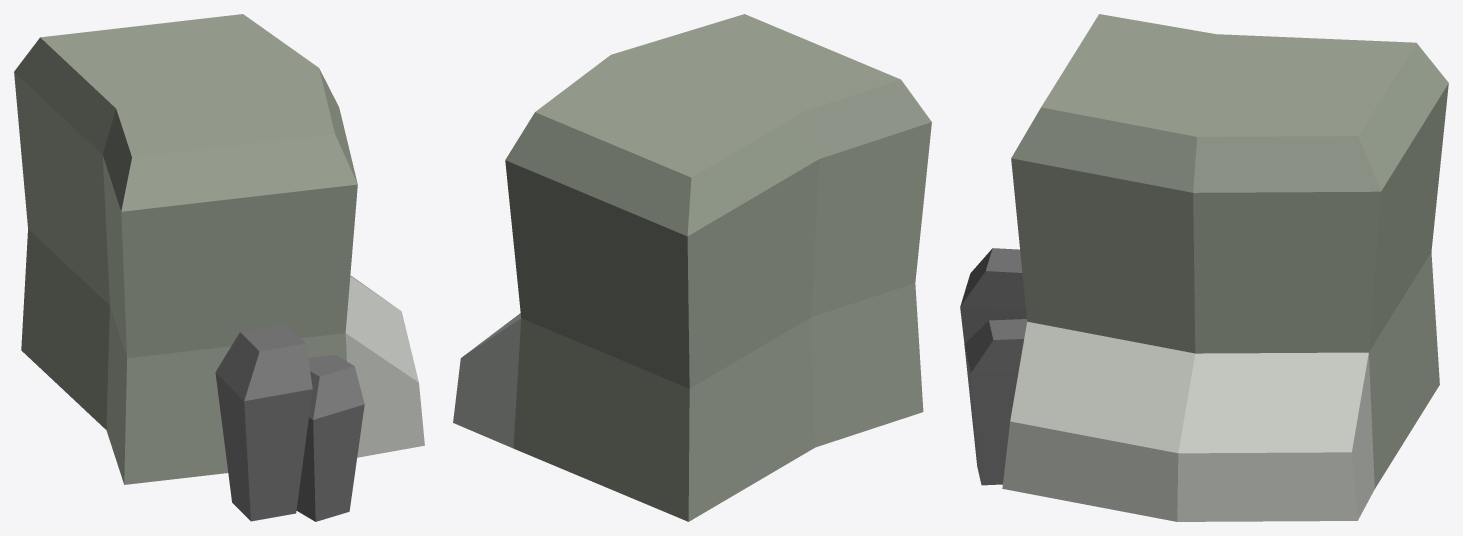
File: rock-type6-03-green.glb
3 renders of one model, left to right at view 1: azimuth 30°, elevation 25°; view 2: azimuth 150°, elevation 25°; view 3: azimuth 270°, elevation 25°, orthographic. The views are drawn at different scales.
Parts seen in each view (by area): view 1: Rock_Type6_03_mesh; view 2: Rock_Type6_03_mesh; view 3: Rock_Type6_03_mesh.
Part boxes in pixels (x1=…): Rock_Type6_03_mesh: x1=14, y1=14, x2=424, y2=521; Rock_Type6_03_mesh: x1=453, y1=14, x2=931, y2=521; Rock_Type6_03_mesh: x1=960, y1=14, x2=1448, y2=521.
Bounding box in the file's own units: 1.11 × 1.14 × 1.31.
1 material, 1 textured.
